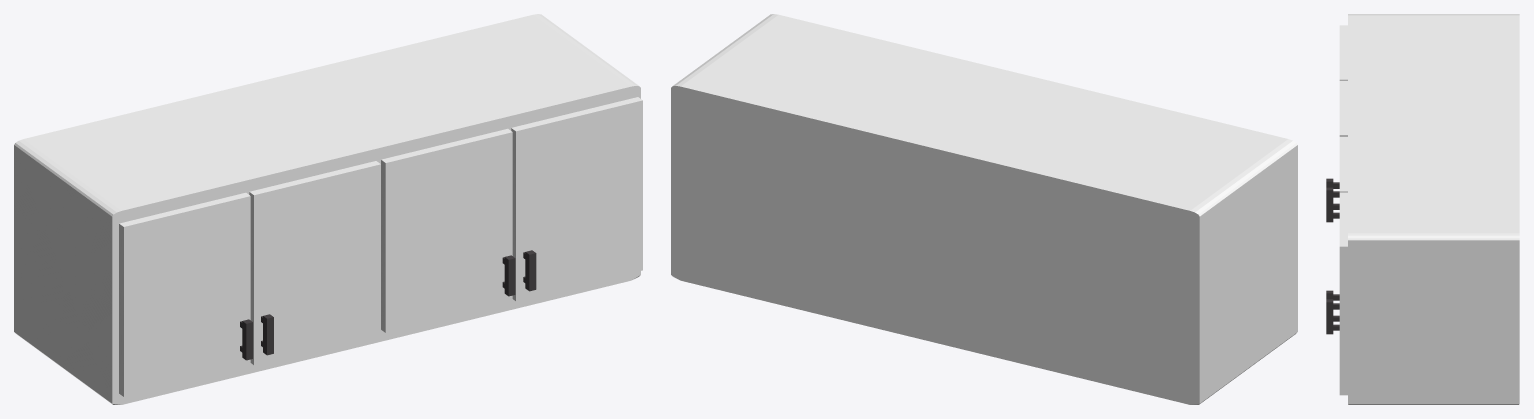
The model's file is laci atas.fbx.
3 renders of one model, left to right at view 1: azimuth 30°, elevation 25°; view 2: azimuth 150°, elevation 25°; view 3: azimuth 270°, elevation 25°, orthographic. The views are drawn at different scales.
Parts seen in each view (by area): view 1: Cube, Cube.003, Cube.001, Cube.004, Cube.002; view 2: Cube; view 3: Cube, Cube.004, Cube.001, Cube.002, Cube.003, Cube.008, Cube.006.
Part boxes in pixels (bbox=[...]): Cube: bbox=[14, 14, 640, 404]; Cube.003: bbox=[381, 128, 512, 332]; Cube.001: bbox=[119, 192, 250, 396]; Cube.004: bbox=[511, 97, 642, 301]; Cube.002: bbox=[249, 161, 380, 365]; Cube: bbox=[671, 14, 1297, 404]; Cube: bbox=[1348, 14, 1519, 404]; Cube.004: bbox=[1339, 192, 1347, 395]; Cube.001: bbox=[1339, 25, 1347, 80]; Cube.002: bbox=[1339, 81, 1347, 136]; Cube.003: bbox=[1339, 137, 1347, 192]; Cube.008: bbox=[1326, 299, 1339, 334]; Cube.006: bbox=[1326, 187, 1339, 222].
Bounding box in the file's own units: 760 × 267 × 275.
1 material, 1 textured.
